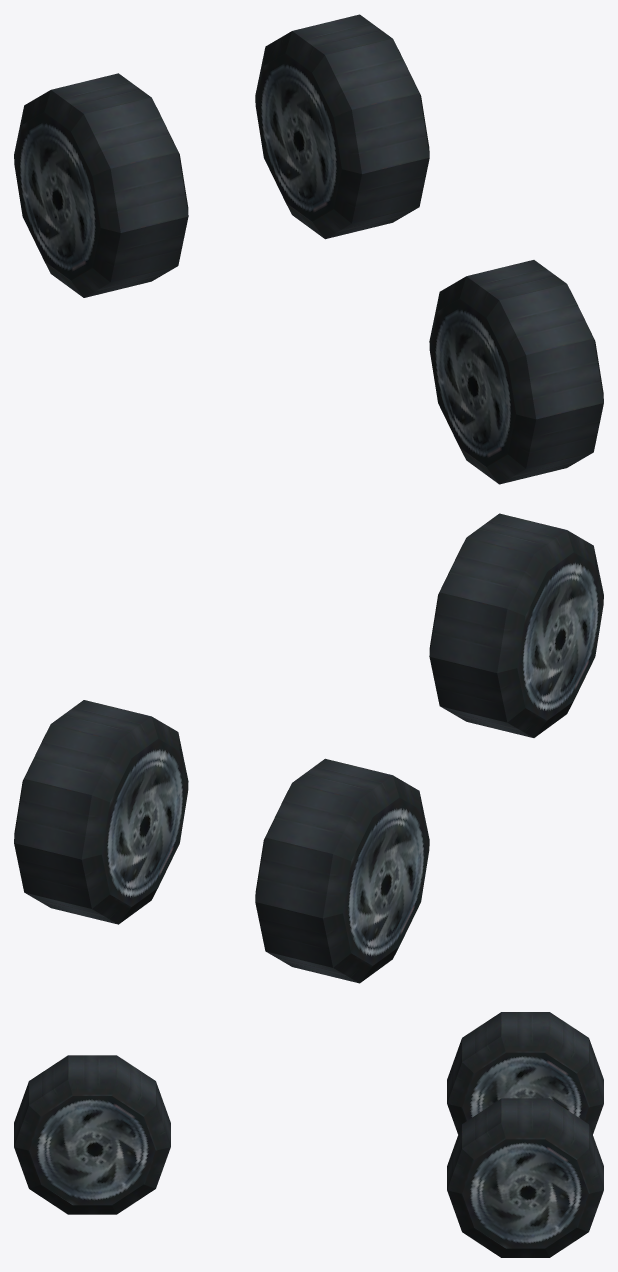
File: Kart 1 Wheels.glb
The picture shows the model from 3 angles, top to bottom: view 1: azimuth 30°, elevation 25°; view 2: azimuth 150°, elevation 25°; view 3: azimuth 270°, elevation 25°; orthographic projection. The views are drawn at different scales.
Visible parts, largest first — view 1: left_wheel, front_wheel, right_wheel; view 2: right_wheel, front_wheel, left_wheel; view 3: front_wheel, left_wheel, right_wheel.
Boxes of the visible parts, bbox=[...] form: left_wheel: bbox=[255, 14, 429, 239]; front_wheel: bbox=[429, 260, 603, 484]; right_wheel: bbox=[14, 73, 188, 297]; right_wheel: bbox=[255, 758, 429, 983]; front_wheel: bbox=[429, 513, 603, 737]; left_wheel: bbox=[14, 700, 188, 924]; front_wheel: bbox=[14, 1055, 170, 1214]; left_wheel: bbox=[447, 1098, 603, 1257]; right_wheel: bbox=[447, 1012, 603, 1134].
Size of the model in its own units: 1.89 by 1.01 by 4.
1 material, 1 textured.
